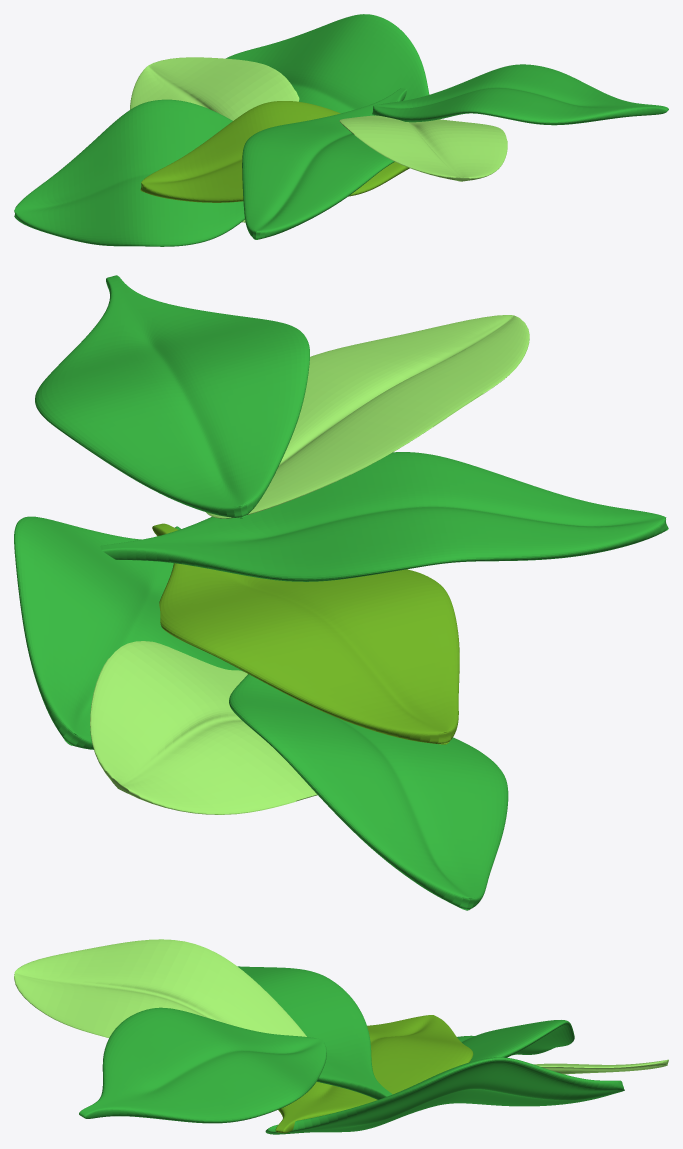
File: Tea_Visual.fbx
The picture shows the model from 3 angles, top to bottom: view 1: azimuth 30°, elevation 25°; view 2: azimuth 150°, elevation 25°; view 3: azimuth 270°, elevation 25°; orthographic projection. The views are drawn at different scales.
Visible parts, largest first — view 1: tea.002, tea.001, tea.003, tea.004, tea, tea.006, tea.005; view 2: tea.004, tea.001, tea, tea.002, tea.005, tea.006, tea.003; view 3: tea.004, tea.006, tea.003, tea.001, tea, tea.002, tea.005.
Boxes of the visible parts, bbox=[...] form: tea.002: bbox=[14, 99, 244, 246]; tea.001: bbox=[242, 88, 406, 239]; tea.003: bbox=[226, 14, 429, 113]; tea.004: bbox=[372, 64, 668, 125]; tea: bbox=[140, 101, 409, 202]; tea.006: bbox=[339, 115, 507, 181]; tea.005: bbox=[130, 57, 299, 222]; tea.004: bbox=[35, 275, 309, 518]; tea.001: bbox=[100, 452, 668, 581]; tea: bbox=[152, 523, 459, 744]; tea.002: bbox=[229, 674, 508, 910]; tea.005: bbox=[90, 641, 317, 814]; tea.006: bbox=[206, 315, 529, 518]; tea.003: bbox=[14, 516, 242, 749]; tea.004: bbox=[79, 1007, 326, 1123]; tea.006: bbox=[14, 939, 306, 1037]; tea.003: bbox=[265, 1057, 624, 1134]; tea.001: bbox=[237, 966, 392, 1099]; tea: bbox=[275, 1015, 473, 1133]; tea.002: bbox=[457, 1020, 574, 1061]; tea.005: bbox=[534, 1059, 668, 1074].
Bounding box in the file's own units: 44.47 × 16.54 × 49.34.
